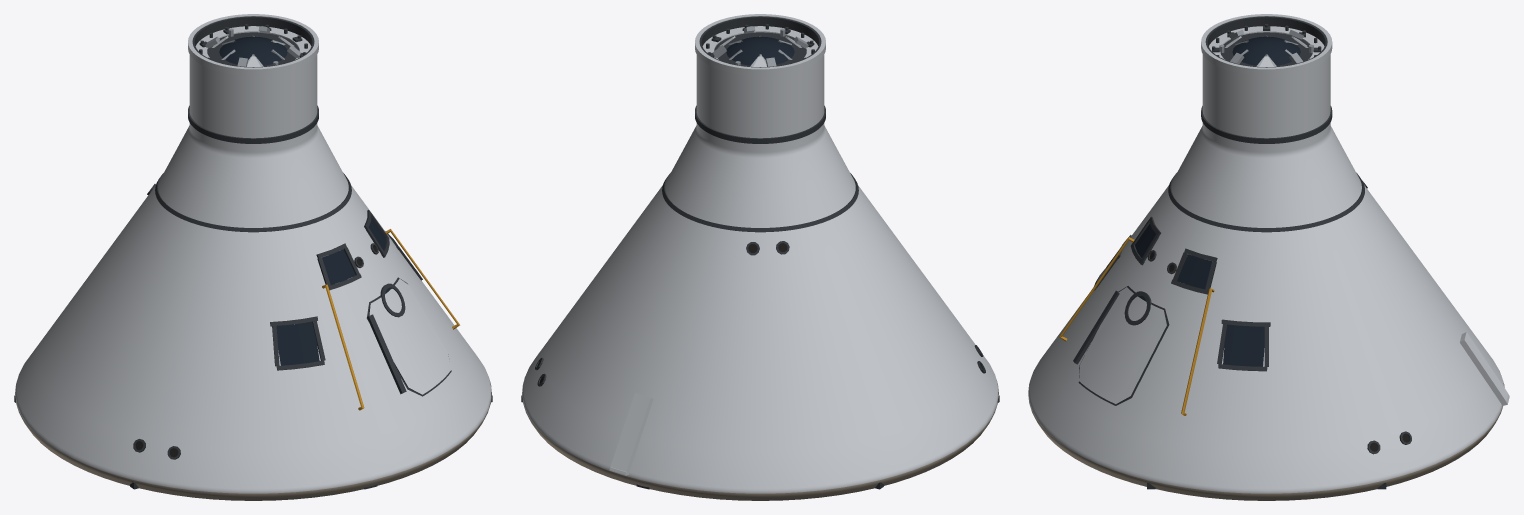
The model's file is capsule_apollo.glb.
3 renders of one model, left to right at view 1: azimuth 30°, elevation 25°; view 2: azimuth 150°, elevation 25°; view 3: azimuth 270°, elevation 25°, orthographic.
Visible parts, largest first — view 1: body, slot_windows__cupola, slot_docking__cbm; view 2: body, slot_windows__cupola, slot_docking__cbm; view 3: body, slot_windows__cupola, slot_docking__cbm.
Part boxes in pixels (x1,y1,x2,y2): body: (14, 14, 492, 500); slot_windows__cupola: (219, 35, 287, 65); slot_docking__cbm: (195, 24, 311, 66); body: (521, 14, 999, 500); slot_windows__cupola: (726, 35, 794, 65); slot_docking__cbm: (702, 24, 818, 66); body: (1028, 14, 1509, 500); slot_windows__cupola: (1232, 35, 1300, 65); slot_docking__cbm: (1209, 24, 1324, 63).
Size of the model in its own units: 3.36 by 2.8 by 3.39.
